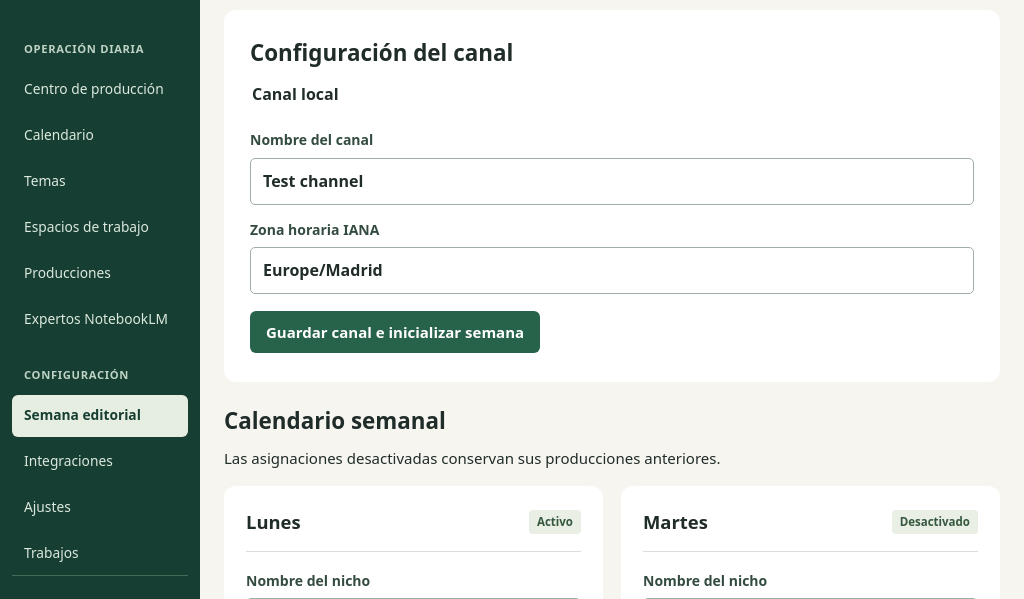
Scenario: creates and edits a production, filters list and excludes disabled niches
This screenshot has width=1024, height=599.
Expected: the heading "Calendario semanal" is shown, [224,405,446,436]
Click the button "Producciones": (100, 273) [12,252,188,294]
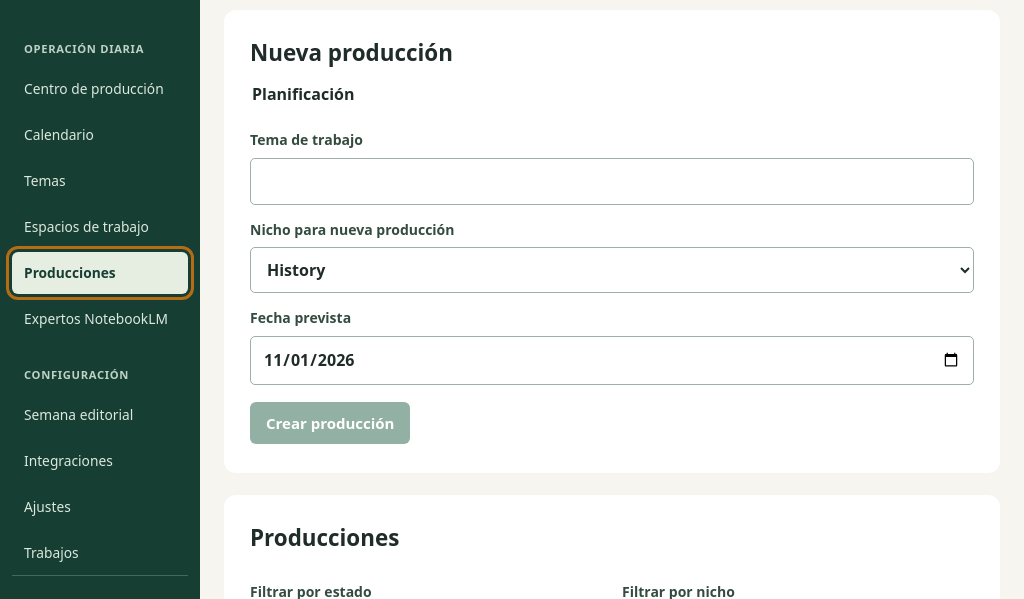
Expected: the option "Disabled" is not shown
In the field labelled "Tema de trabajo": (612, 181) [250,158,974,205], type "Saved topic"
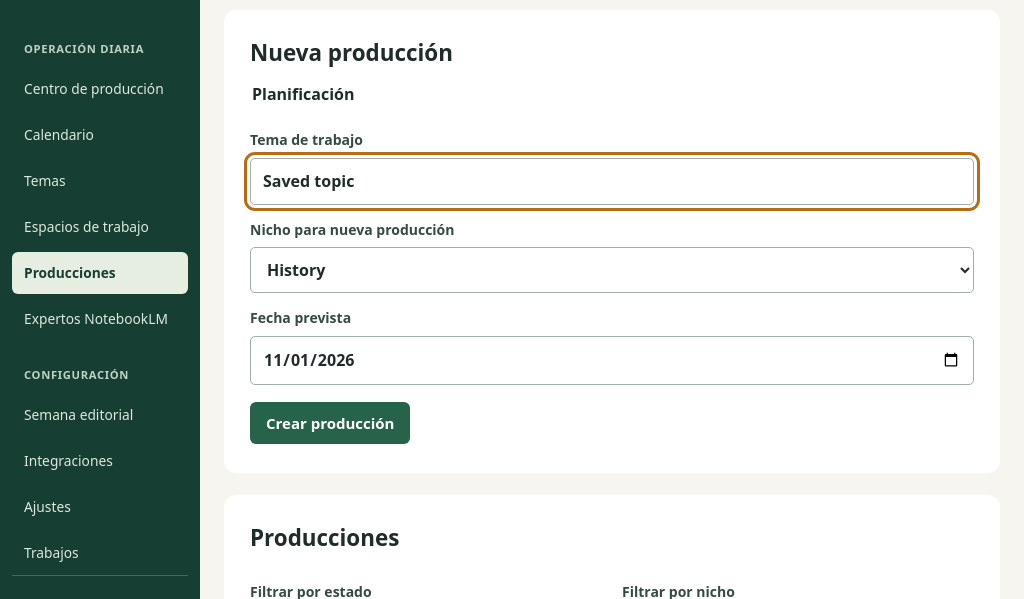
Click the button "Crear producción": (330, 423) [250,402,410,444]
(page scrolled)
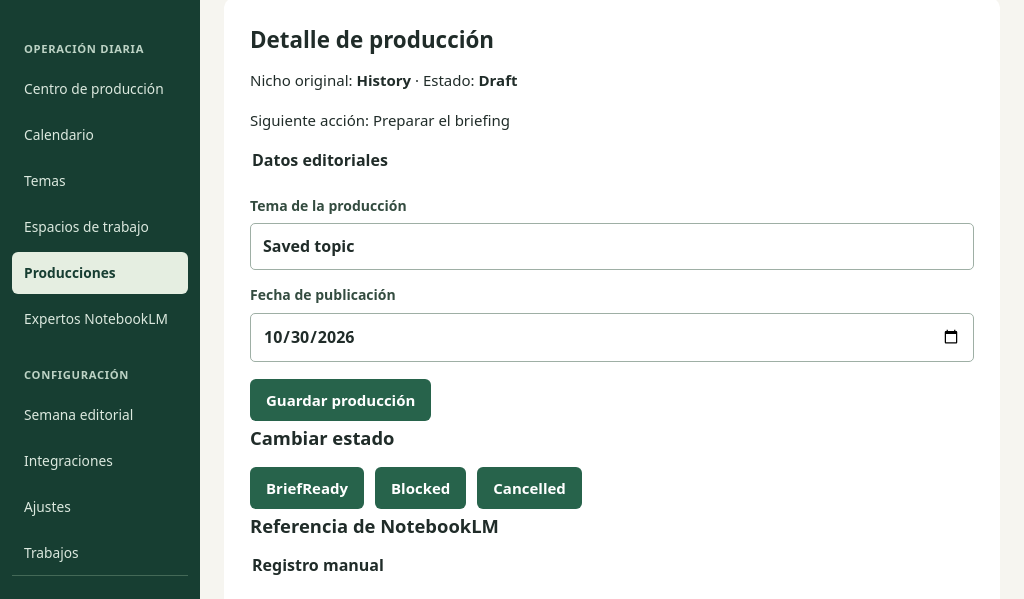
Now the heading "Detalle de producción" is shown, box [250,24,494,55]
Now the text "Siguiente acción: Preparar el briefing" is shown, box [250,110,510,130]
Replace the text in the field labelled "Tema de la producción" with "Edited topic": (612, 247) [250,223,974,270]
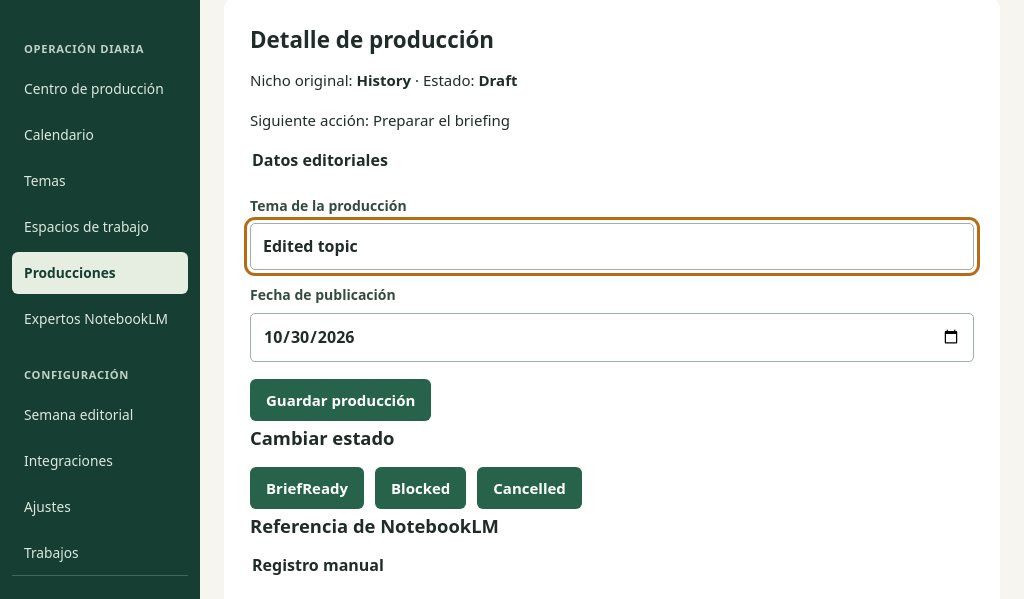
Click the button "Guardar producción": (341, 400) [250,379,431,421]
(page scrolled)
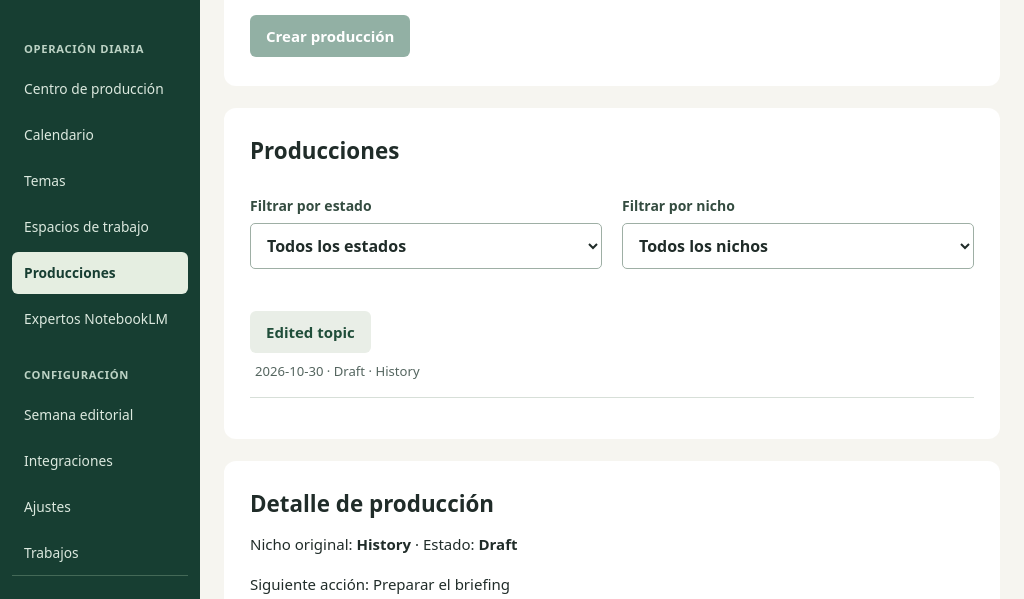
Now the button "Edited topic" is shown, box [250,311,371,353]
Select "Cancelled" in the dropdown labelled "Filtrar por estado": (426, 246) [250,223,602,269]
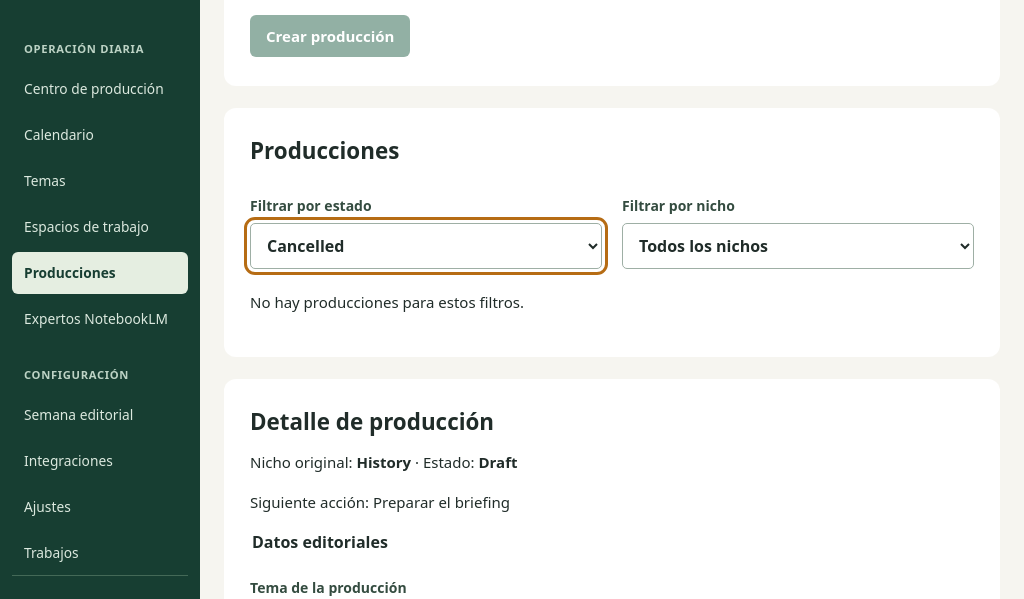
Now the text "No hay producciones para estos filtros." is shown, box [250,292,524,312]
